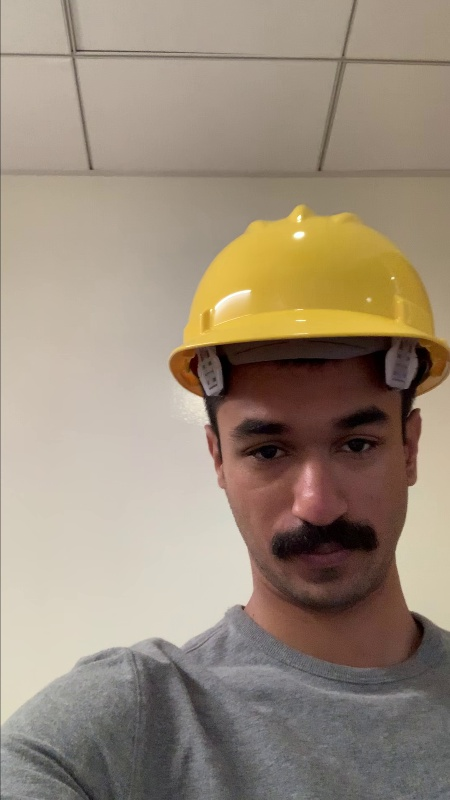helmet: (155, 201, 450, 375)
